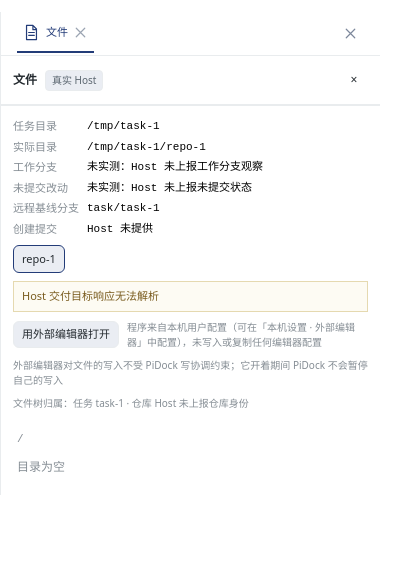
Scenario: #15 box 28 external editor from the file panel › shows the Host's named refusal instead of a launch
Click the button "用外部编辑器打开" at (66, 335), box [13,321,119,348]
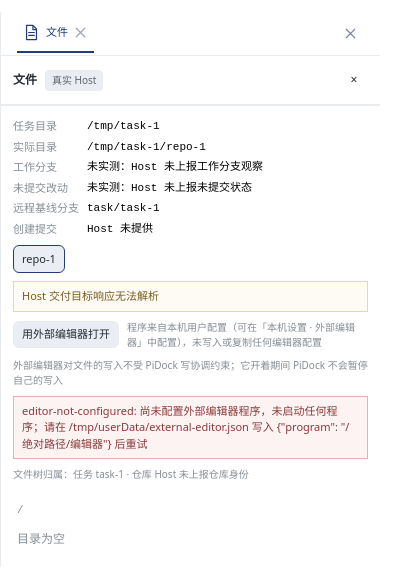
Expected: the text "external-editor.json" is shown, [22,402,349,450]
